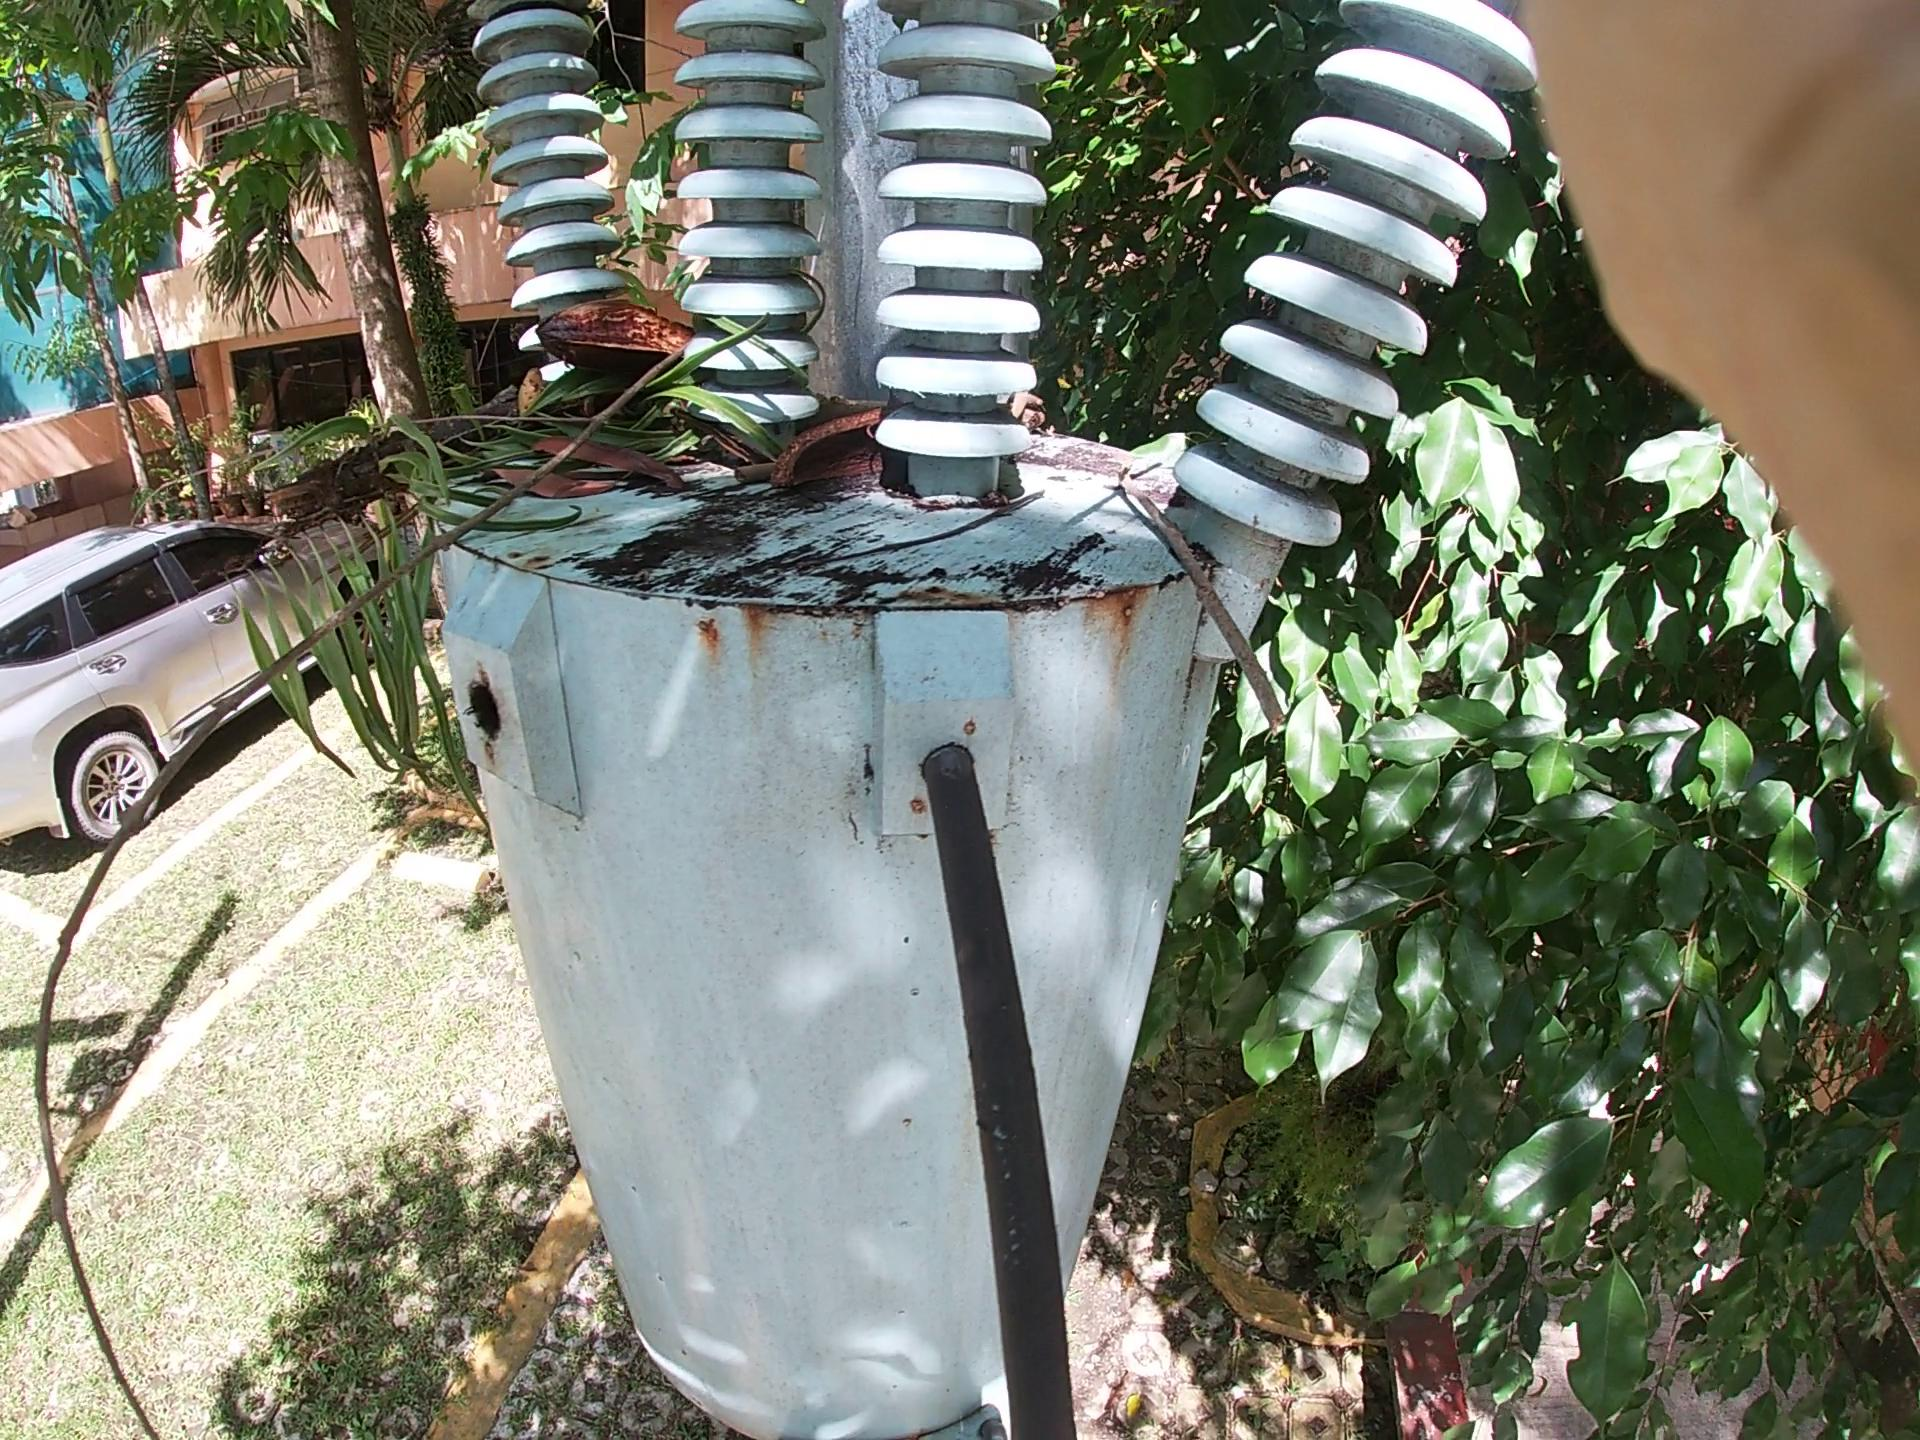branch with leaves: (190, 272, 701, 635)
leaf: (528, 417, 712, 573)
mahogany fruit: (540, 219, 711, 369), (774, 390, 918, 475)
tree branch: (144, 321, 726, 871), (1110, 411, 1252, 749), (679, 424, 884, 492)
